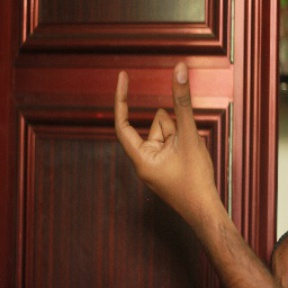U: (118, 59, 206, 183)
